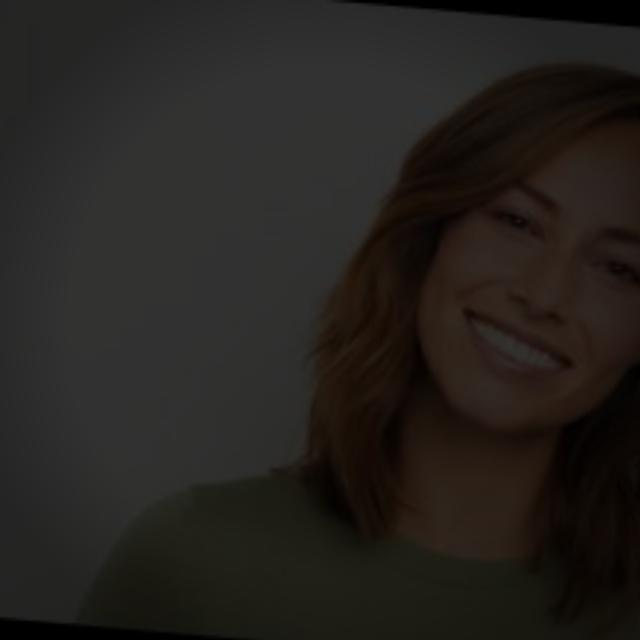Happy: (377, 92, 640, 467)
